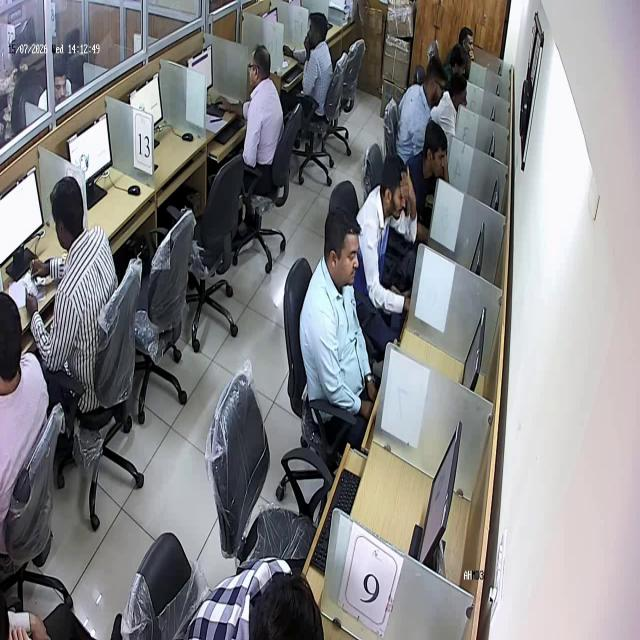paper-chit: (23, 270, 39, 299)
